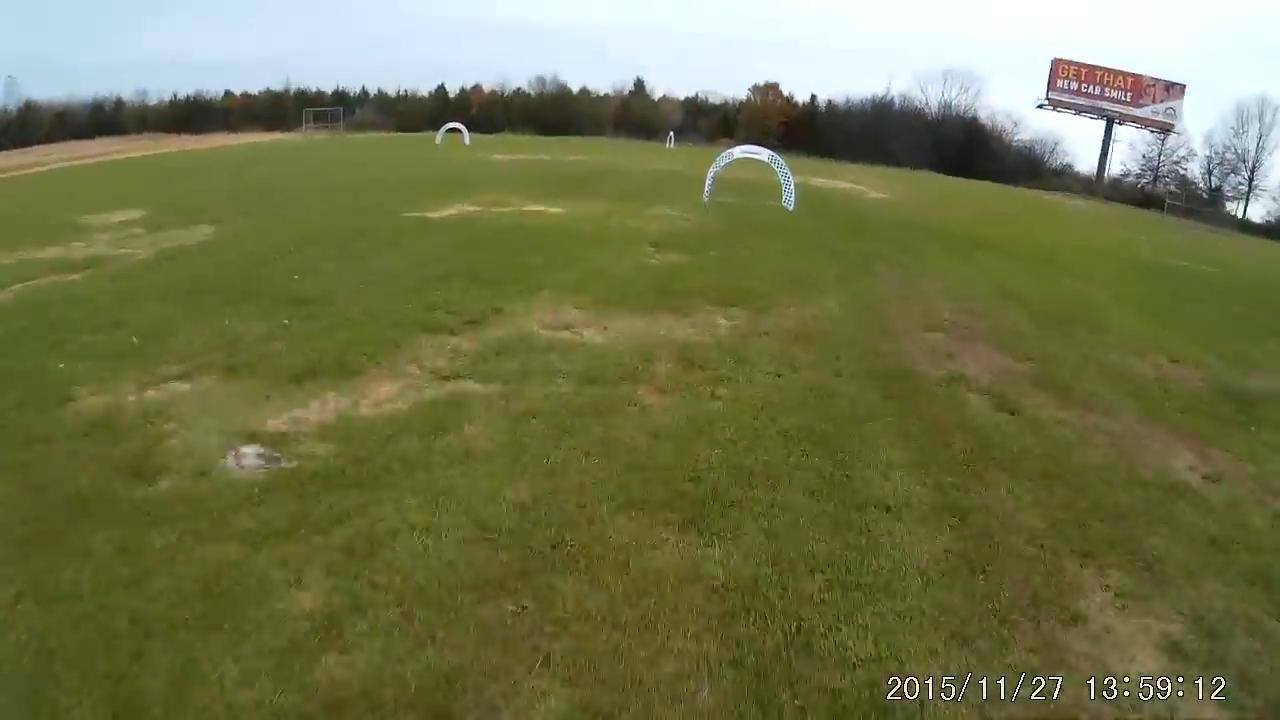gate: (700, 142, 799, 210)
